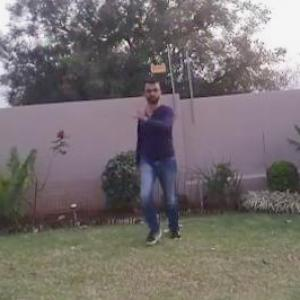follow_hand: (129, 100, 152, 126)
